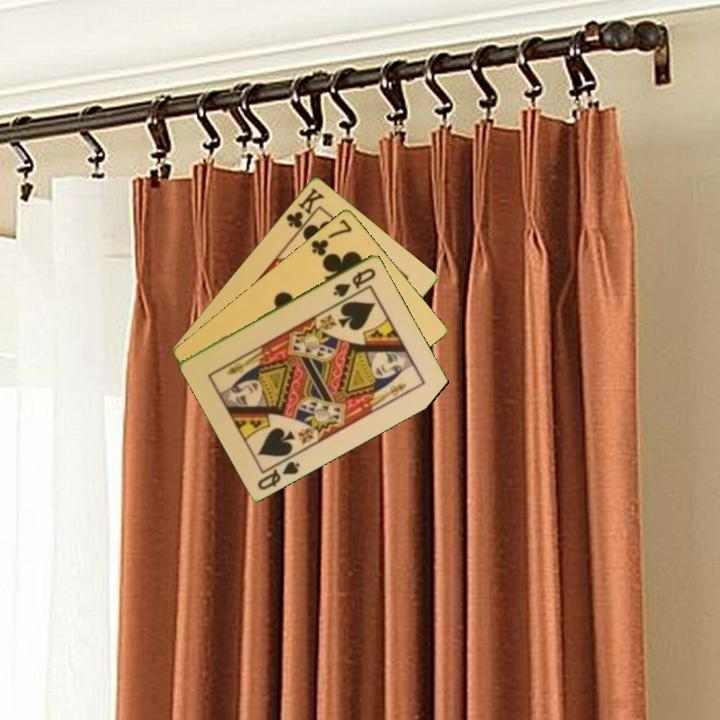7c: (307, 215, 355, 259)
Kc: (282, 184, 327, 237)
Qs: (329, 264, 379, 300), (254, 457, 303, 493)
